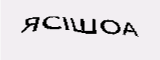К: (47, 12, 59, 32)
Р: (81, 10, 103, 38)
С: (33, 13, 47, 37)
Ч: (104, 10, 126, 39), (61, 9, 75, 37)
